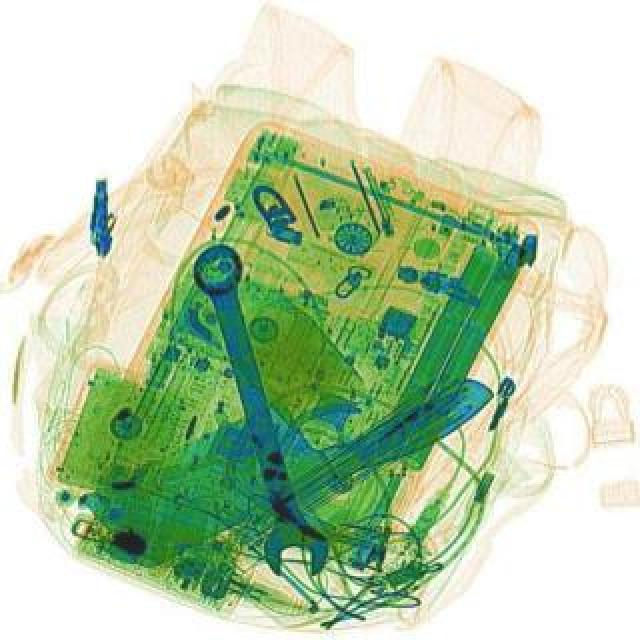knife: (76, 320, 504, 582)
scissors: (178, 238, 342, 586)
